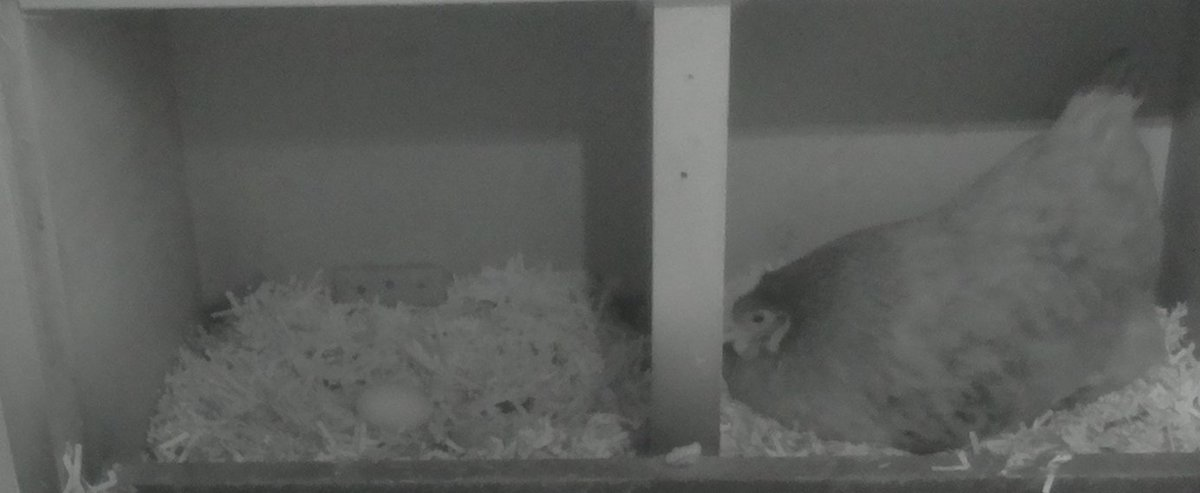egg: (353, 379, 439, 436)
hen: (729, 65, 1165, 447)
